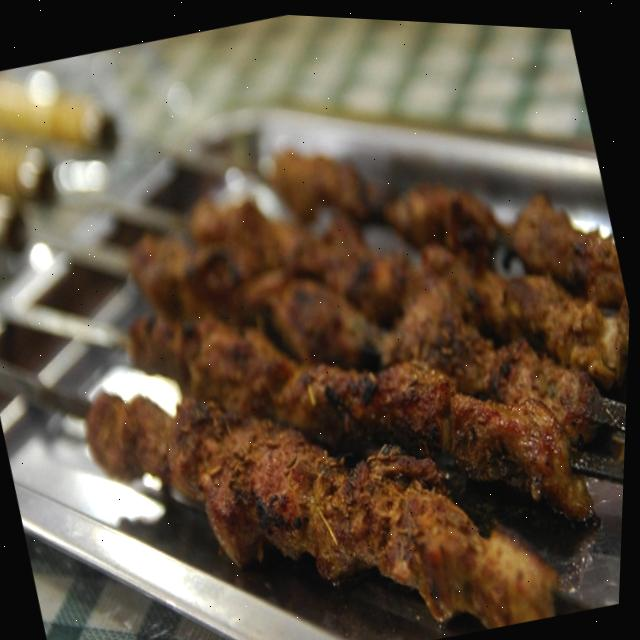烧串烤肉: (0, 3, 640, 640)
